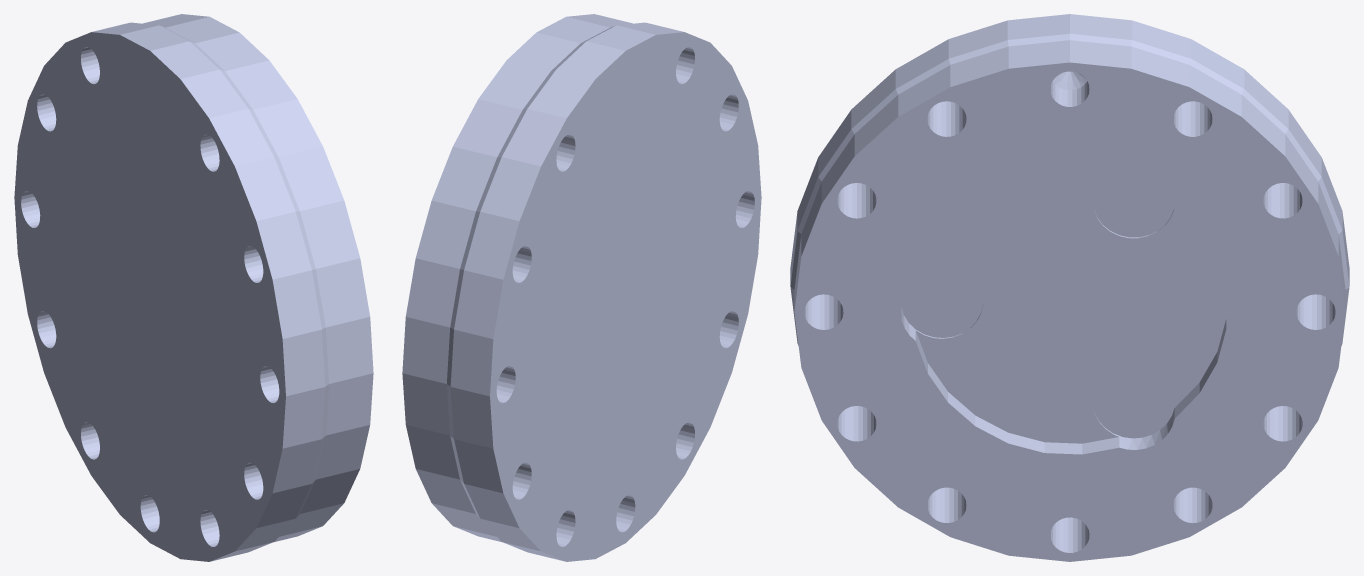
The picture shows the model from 3 angles, left to right: view 1: azimuth 30°, elevation 25°; view 2: azimuth 150°, elevation 25°; view 3: azimuth 270°, elevation 25°; orthographic projection. The views are drawn at different scales.
Parts seen in each view (by area): view 1: node0; view 2: node0; view 3: node0.
Part boxes in pixels (left/top/right/bottom): node0: left=14, top=14, right=373, bottom=561; node0: left=402, top=14, right=761, bottom=561; node0: left=790, top=14, right=1349, bottom=561.
Size of the model in its own units: 0.027 by 0.142 by 0.142.
